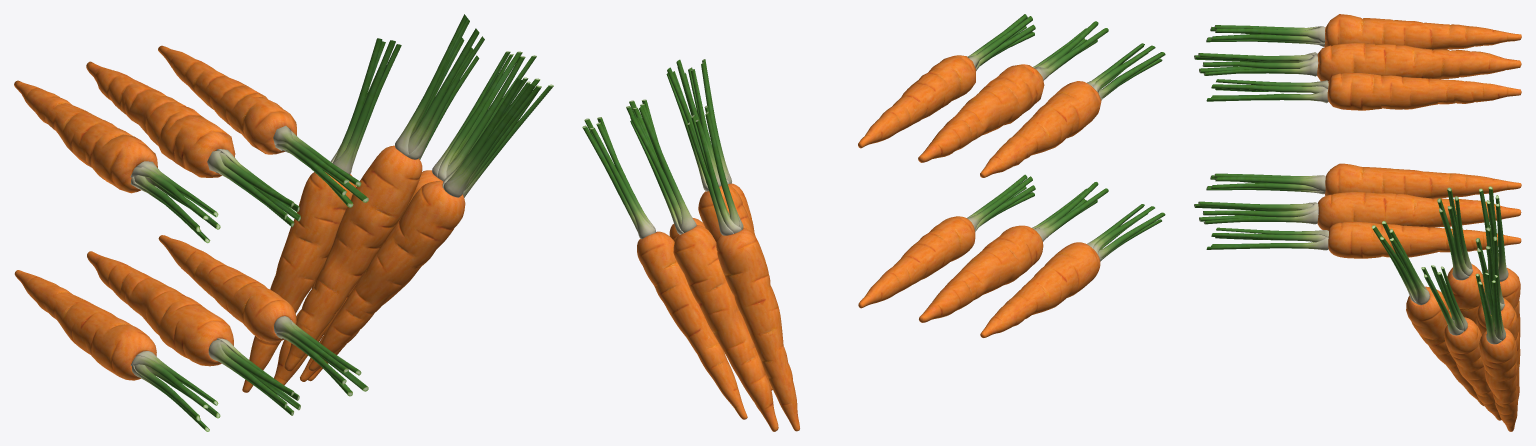
Rendered from Carrot.obj.
3 renders of one model, left to right at view 1: azimuth 30°, elevation 25°; view 2: azimuth 150°, elevation 25°; view 3: azimuth 270°, elevation 25°, orthographic. The views are drawn at different scales.
Parts seen in each view (by area): view 1: Carrot_08, Carrot_09, Carrot_05, Carrot_12, Carrot_01, Carrot_11, Carrot_03, Carrot_10, Carrot_02, Carrot_04, Carrot_06, Carrot_07; view 2: Carrot_06, Carrot_05, Carrot_04, Carrot_12, Carrot_11, Carrot_01, Carrot_03, Carrot_10, Carrot_02, Carrot_08, Carrot_09, Carrot_07; view 3: Carrot_12, Carrot_10, Carrot_01, Carrot_11, Carrot_03, Carrot_02, Carrot_04, Carrot_09, Carrot_07, Carrot_08, Carrot_05, Carrot_06.
Boxes of the visible parts, x1,y1,x2,y2 form: Carrot_08: [284, 14, 484, 371]; Carrot_09: [308, 78, 540, 371]; Carrot_05: [242, 38, 401, 392]; Carrot_12: [86, 61, 300, 226]; Carrot_01: [87, 251, 300, 415]; Carrot_11: [14, 80, 220, 243]; Carrot_03: [14, 270, 220, 431]; Carrot_10: [158, 45, 368, 207]; Carrot_02: [158, 235, 368, 396]; Carrot_04: [308, 51, 536, 381]; Carrot_06: [274, 37, 479, 385]; Carrot_07: [300, 77, 553, 381]; Carrot_06: [630, 105, 778, 431]; Carrot_05: [687, 105, 799, 431]; Carrot_04: [582, 117, 747, 419]; Carrot_12: [918, 21, 1108, 162]; Carrot_11: [980, 43, 1165, 177]; Carrot_01: [919, 182, 1108, 322]; Carrot_03: [980, 204, 1165, 337]; Carrot_10: [858, 14, 1035, 148]; Carrot_02: [858, 174, 1035, 308]; Carrot_08: [666, 59, 755, 243]; Carrot_09: [684, 59, 772, 390]; Carrot_07: [626, 99, 759, 410]; Carrot_12: [1194, 42, 1521, 81]; Carrot_10: [1206, 73, 1521, 110]; Carrot_01: [1194, 192, 1521, 230]; Carrot_11: [1206, 14, 1521, 49]; Carrot_03: [1206, 163, 1521, 198]; Carrot_02: [1206, 221, 1521, 258]; Carrot_04: [1475, 272, 1517, 431]; Carrot_09: [1371, 221, 1484, 406]; Carrot_07: [1421, 265, 1501, 420]; Carrot_08: [1437, 187, 1485, 323]; Carrot_05: [1479, 186, 1520, 372]; Carrot_06: [1475, 227, 1520, 400].
Bounding box in the file's own units: 338 × 246 × 236.
